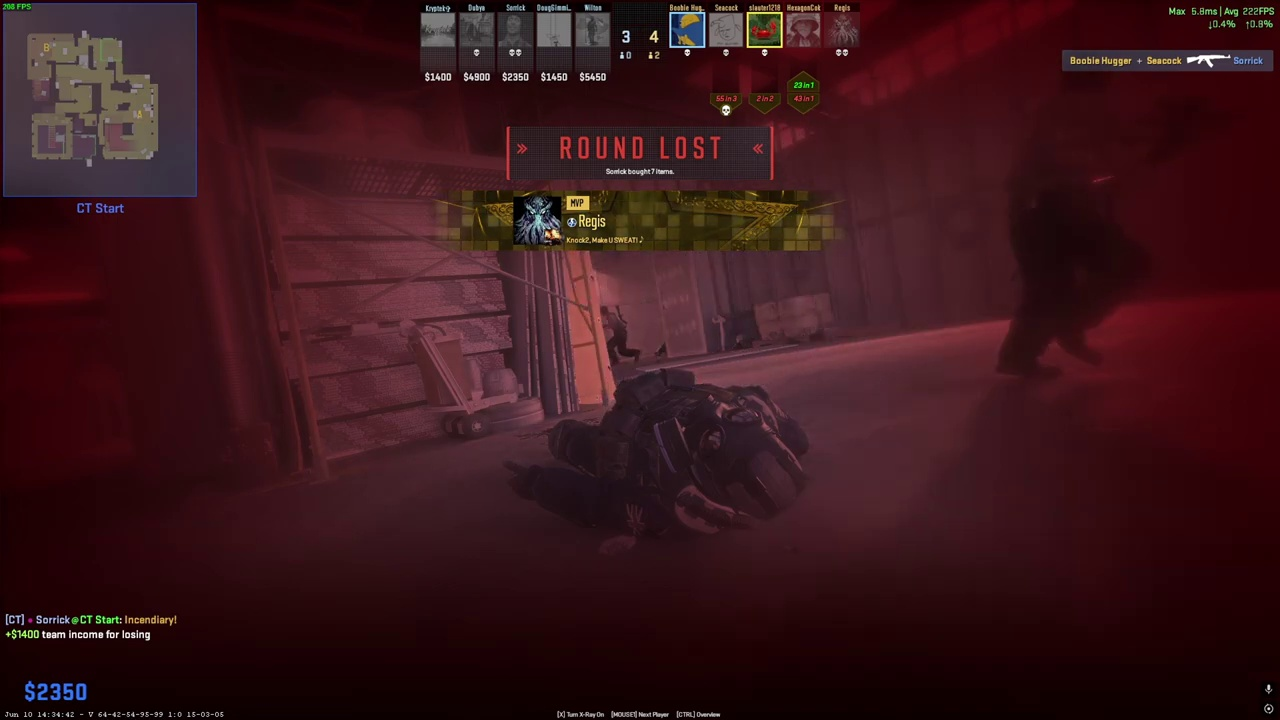Terrorist: (994, 72, 1133, 379), (600, 304, 633, 365)
